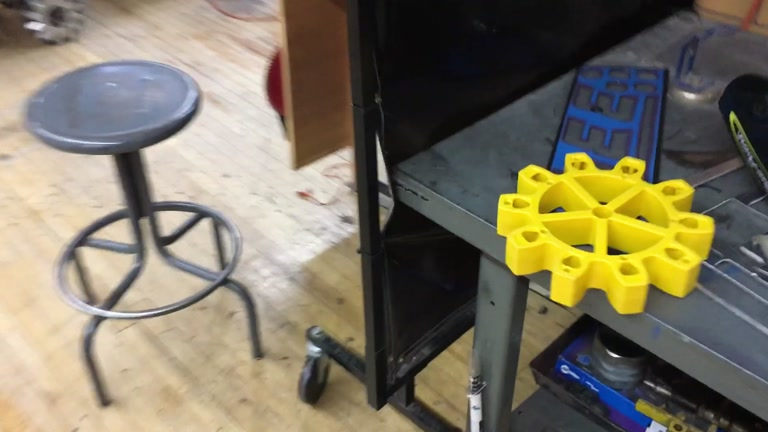gear: (496, 152, 716, 317)
